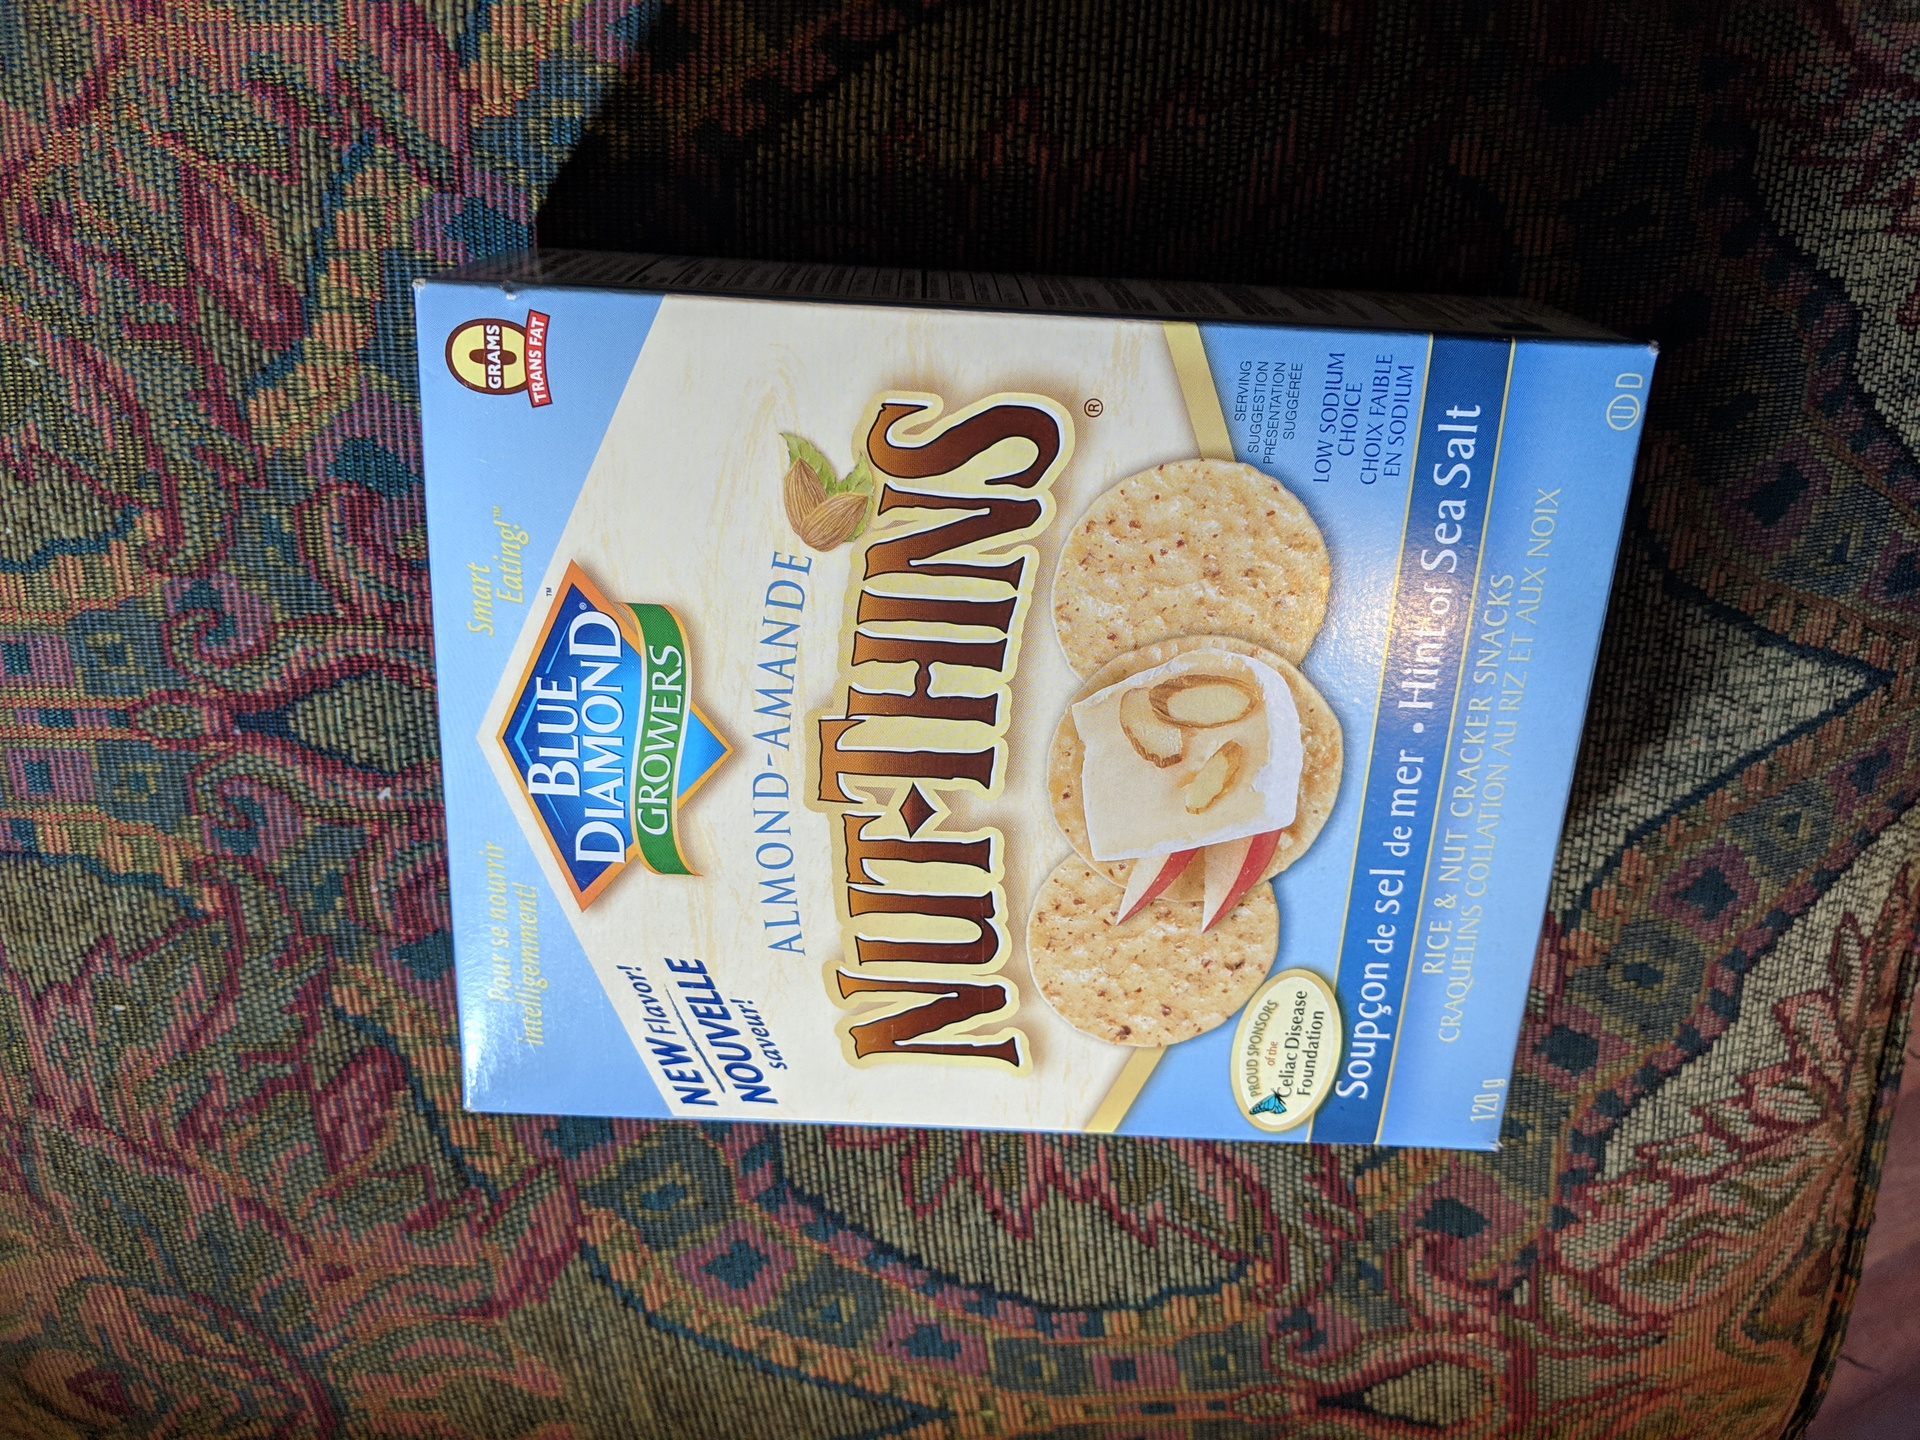blue_diamond_nut_thins_almond_seasalt: (473, 349, 1504, 1110)
